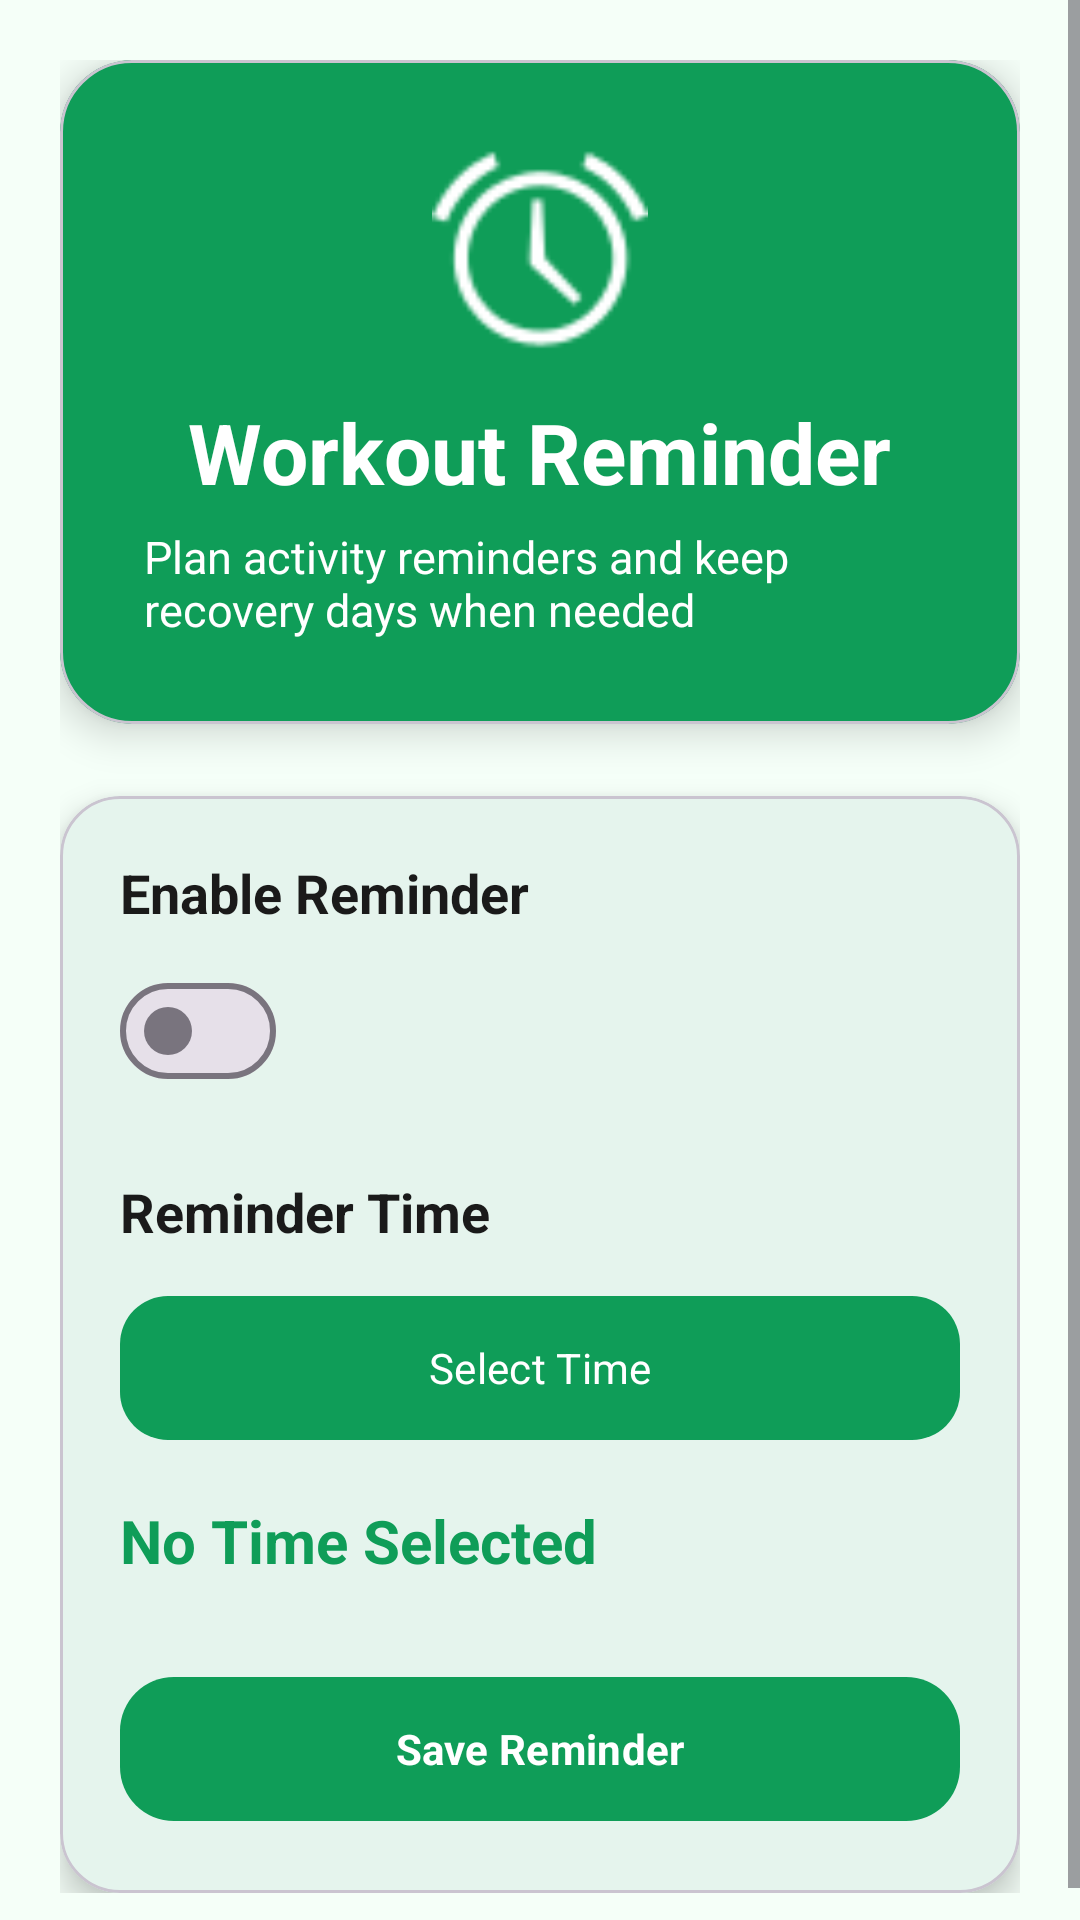

Point at icon controls on the screen. Image size 1080px×1920px, points as (x=x, y=y).
lock idle alarm: (x=540, y=249)
